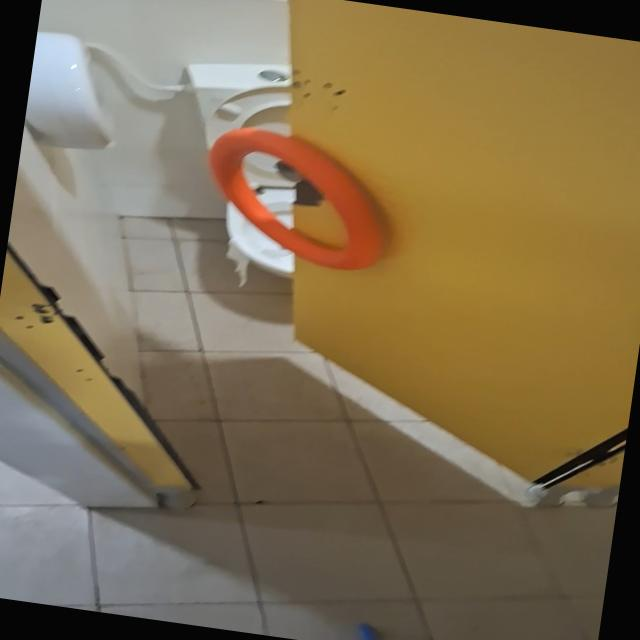note: (194, 120, 400, 276)
